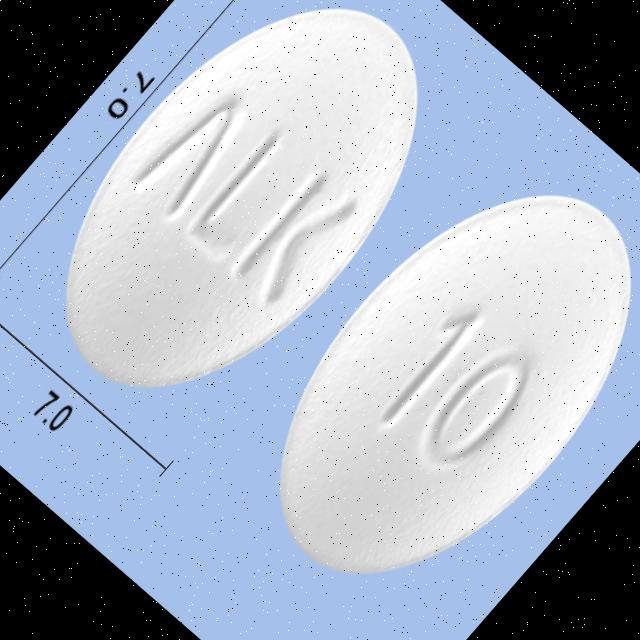Lenomid: (0, 0, 485, 449), (216, 132, 640, 636)
